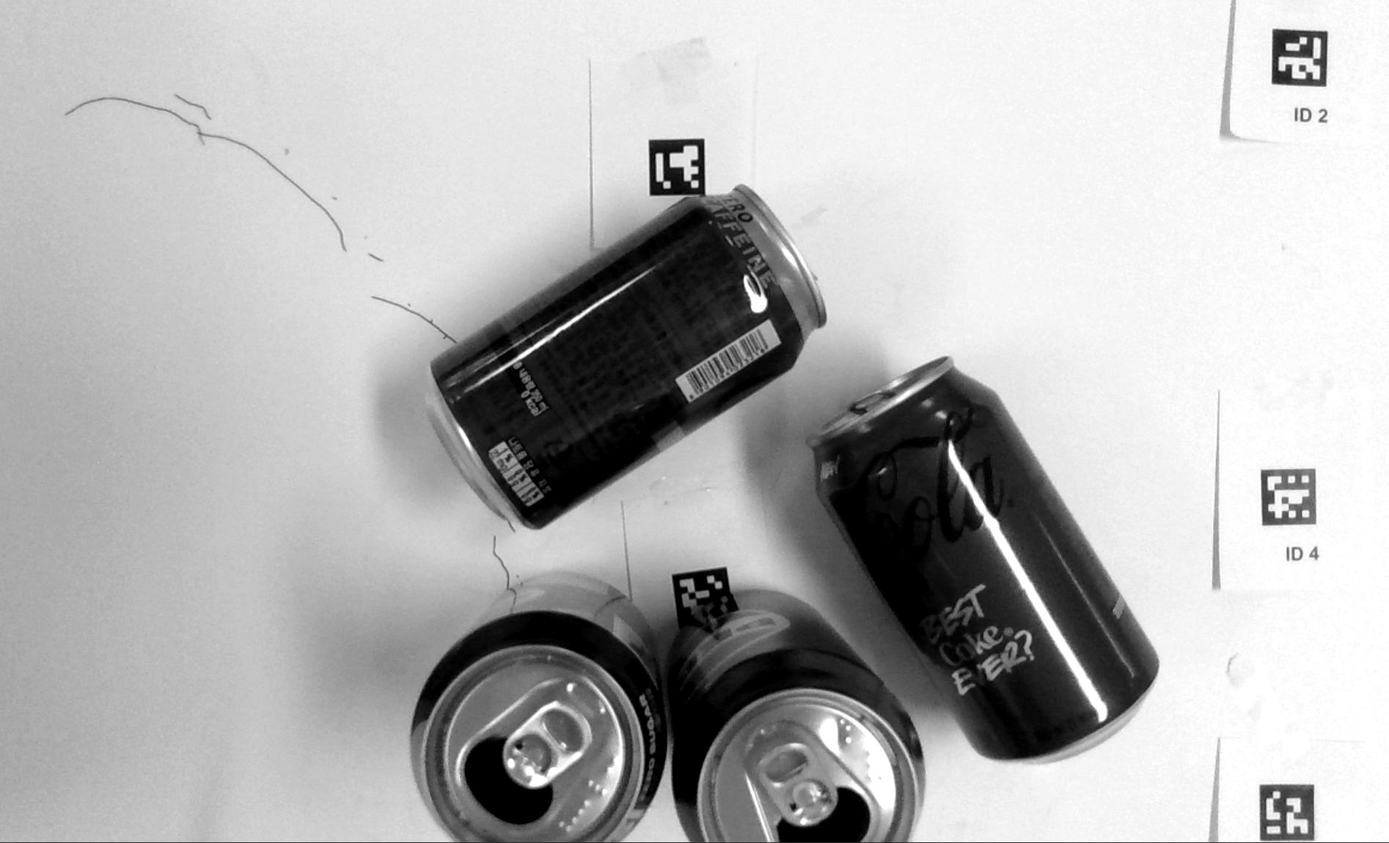can_coke_decaf: (426, 185, 827, 528)
can_coke_zero: (808, 357, 1159, 759)
can_pepsi: (671, 591, 923, 842)
can_pepsi_zero: (411, 574, 667, 842)
